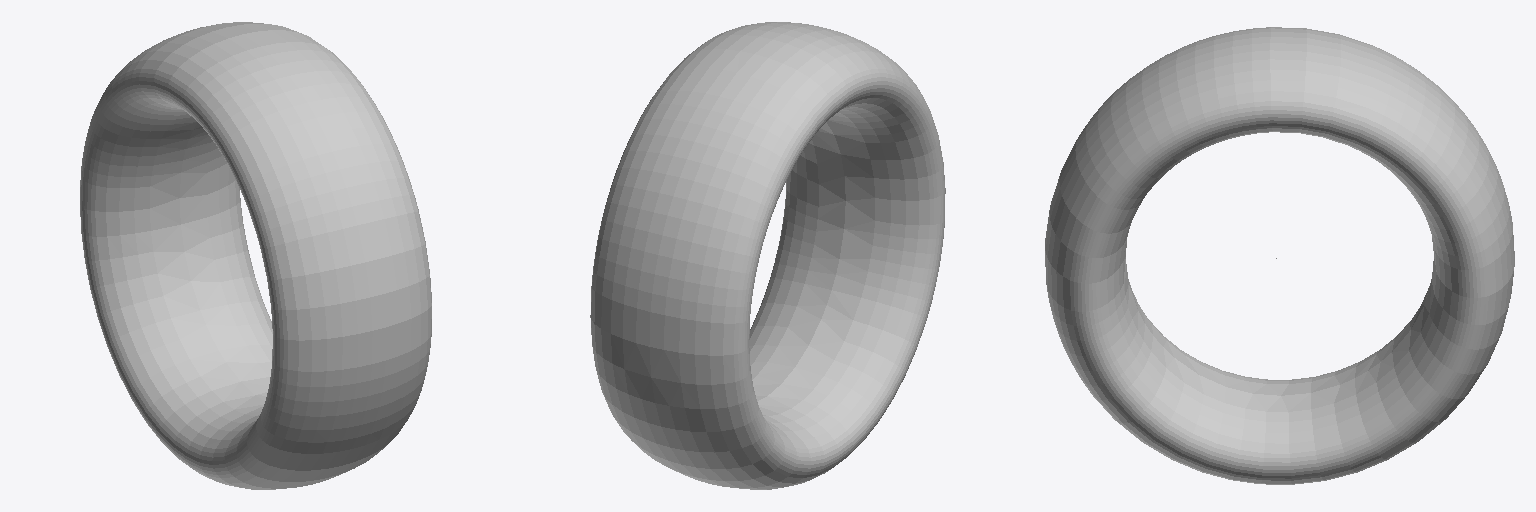
The model's file is vespa_wheel_gomma.obj.
3 views of the same model, side by side, from view 1: azimuth 30°, elevation 25°; view 2: azimuth 150°, elevation 25°; view 3: azimuth 270°, elevation 25° (orthographic).
Visible parts, largest first — view 1: pneumatika_(1); view 2: pneumatika_(1); view 3: pneumatika_(1).
Part boxes in pixels (bbox=[...]): pneumatika_(1): bbox=[80, 22, 431, 489]; pneumatika_(1): bbox=[590, 22, 945, 489]; pneumatika_(1): bbox=[1045, 27, 1514, 484].
Size of the model in its own units: 4.59 by 12 by 12.